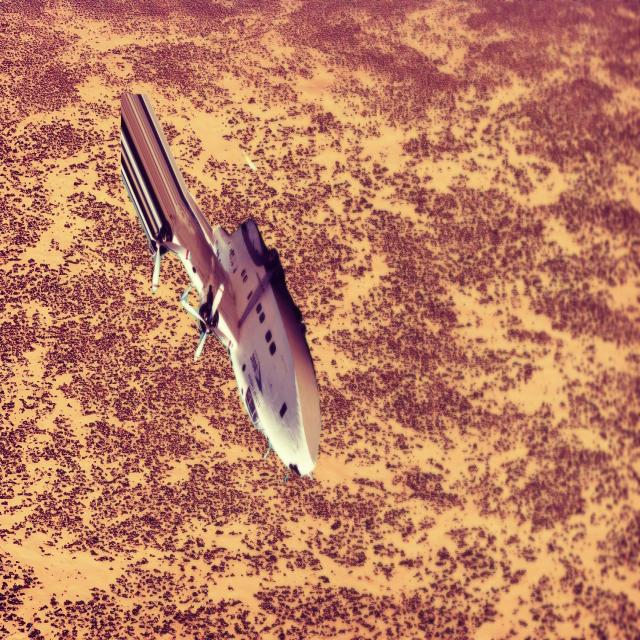airplane: (118, 90, 322, 482)
